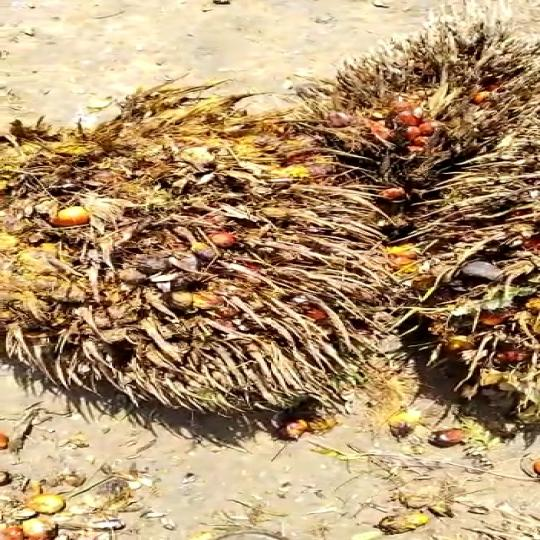terlalu masak: (279, 37, 540, 203)
